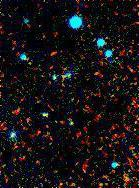star: (115, 168, 139, 188)
